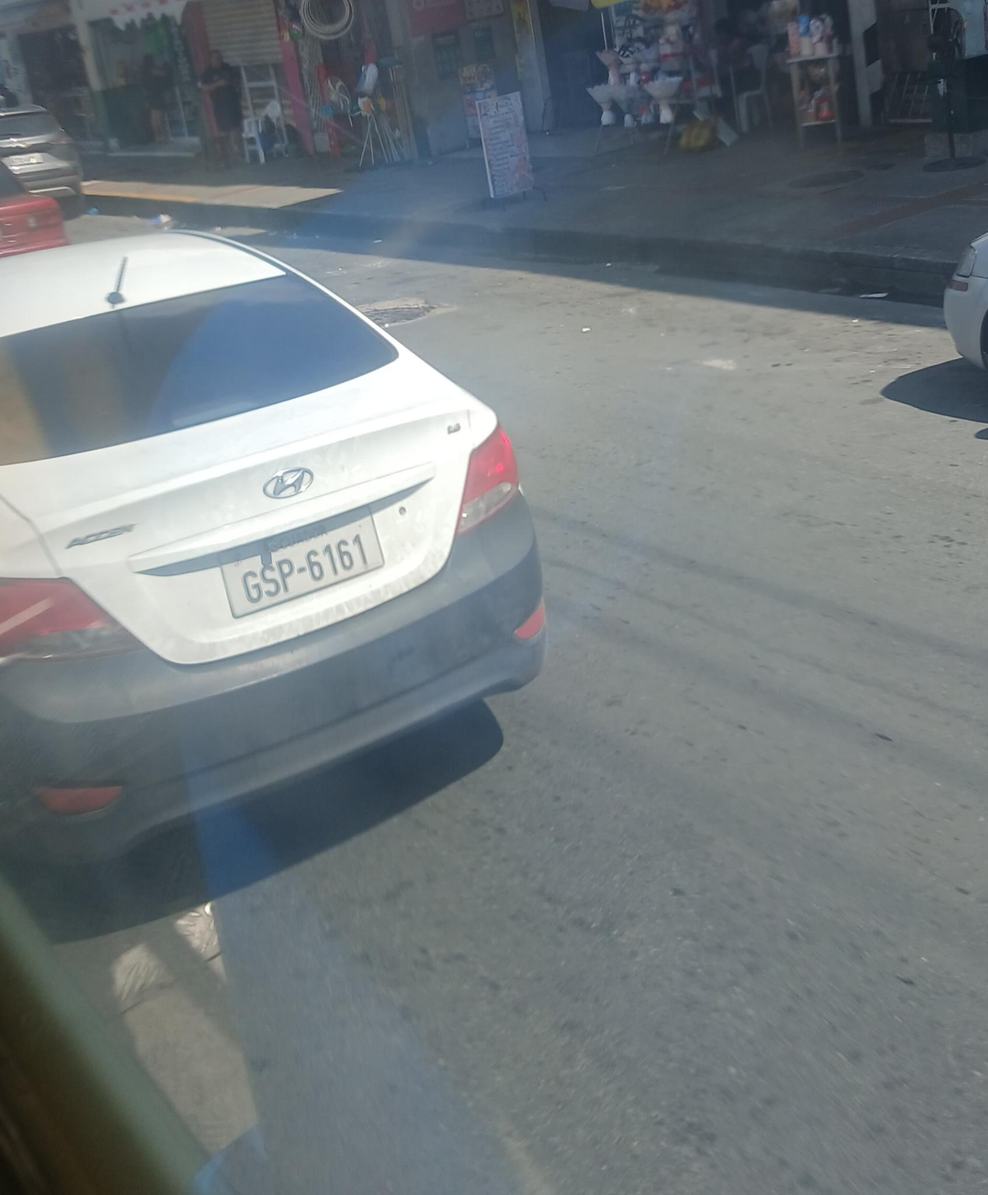license_plate: (219, 506, 385, 618)
